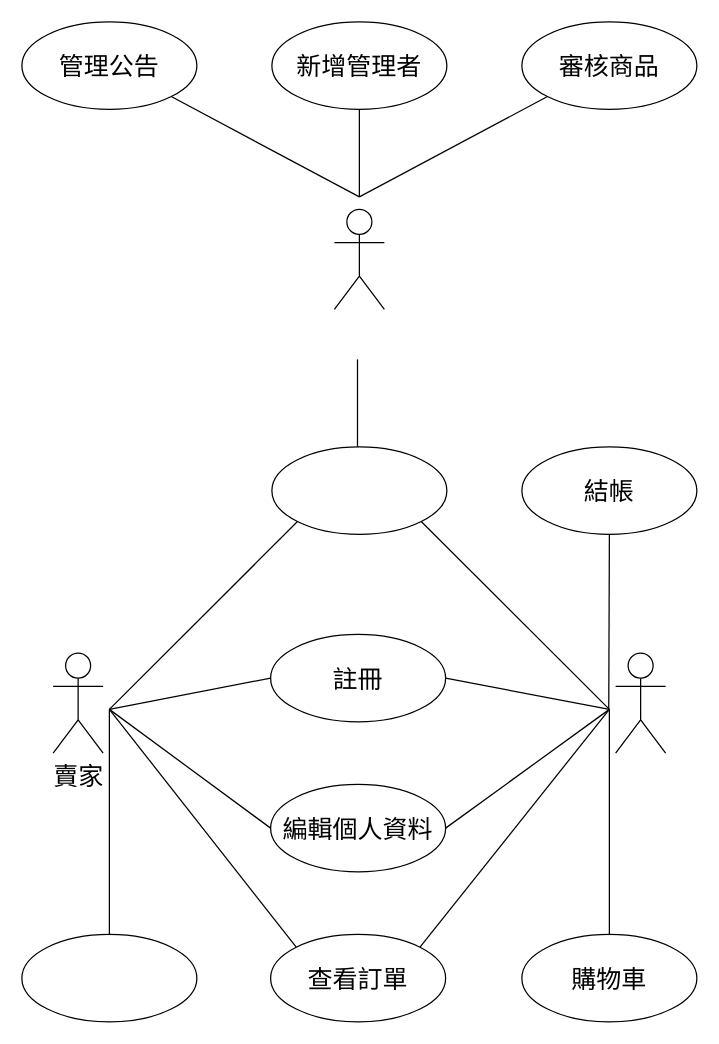
This 719x1044 diagram has some shape labels left out. The box of each missing label's shape, as (x1, y1, x2, y2) in pixels:
商品管理: (21, 933, 197, 1022)
登入: (271, 446, 447, 534)
管理者: (333, 208, 384, 309)
買家: (614, 652, 666, 753)
